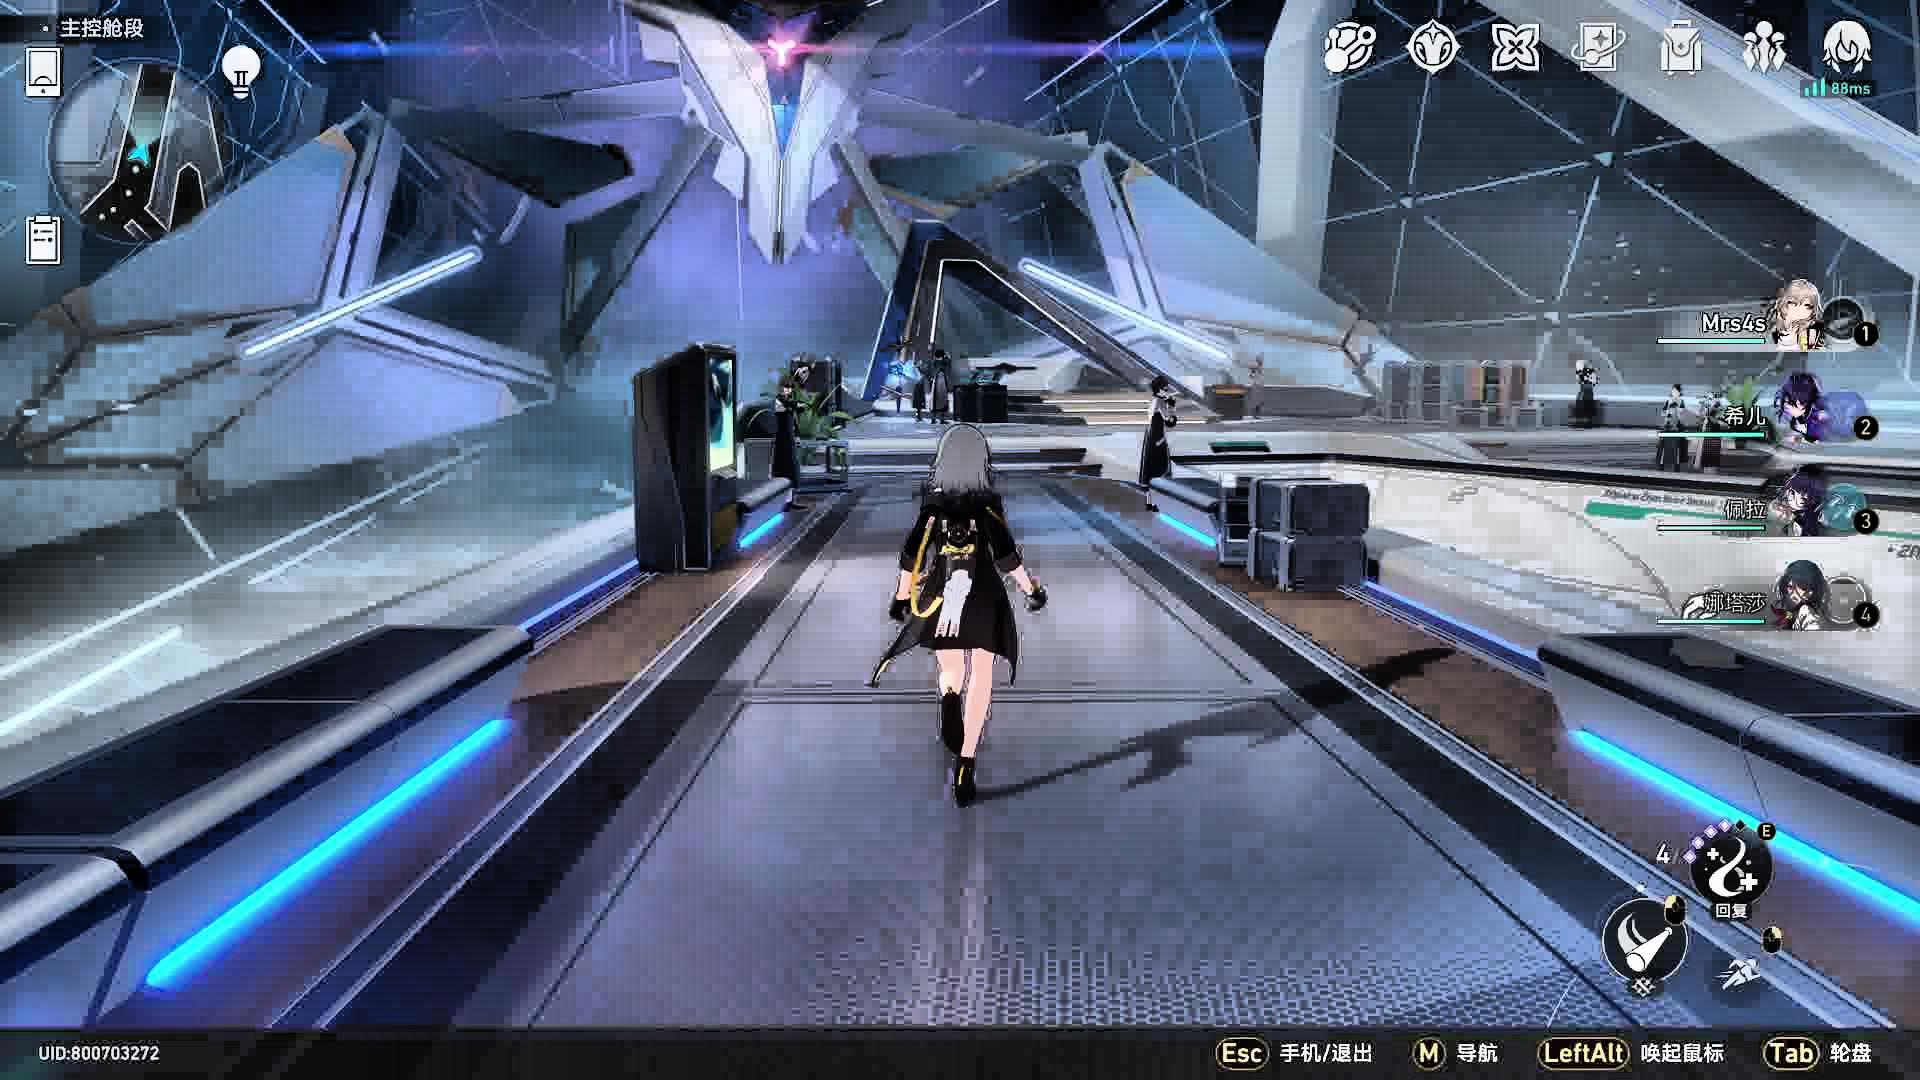Self: (874, 415, 1048, 811)
TeamMate: (1127, 372, 1182, 513), (767, 371, 808, 508), (918, 339, 960, 434), (1652, 382, 1689, 481), (1568, 351, 1604, 433)
